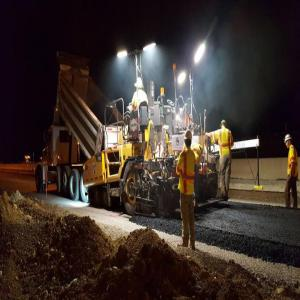white: (184, 130, 194, 149), (285, 133, 292, 149), (137, 78, 144, 91)
yellow: (221, 120, 228, 129)
